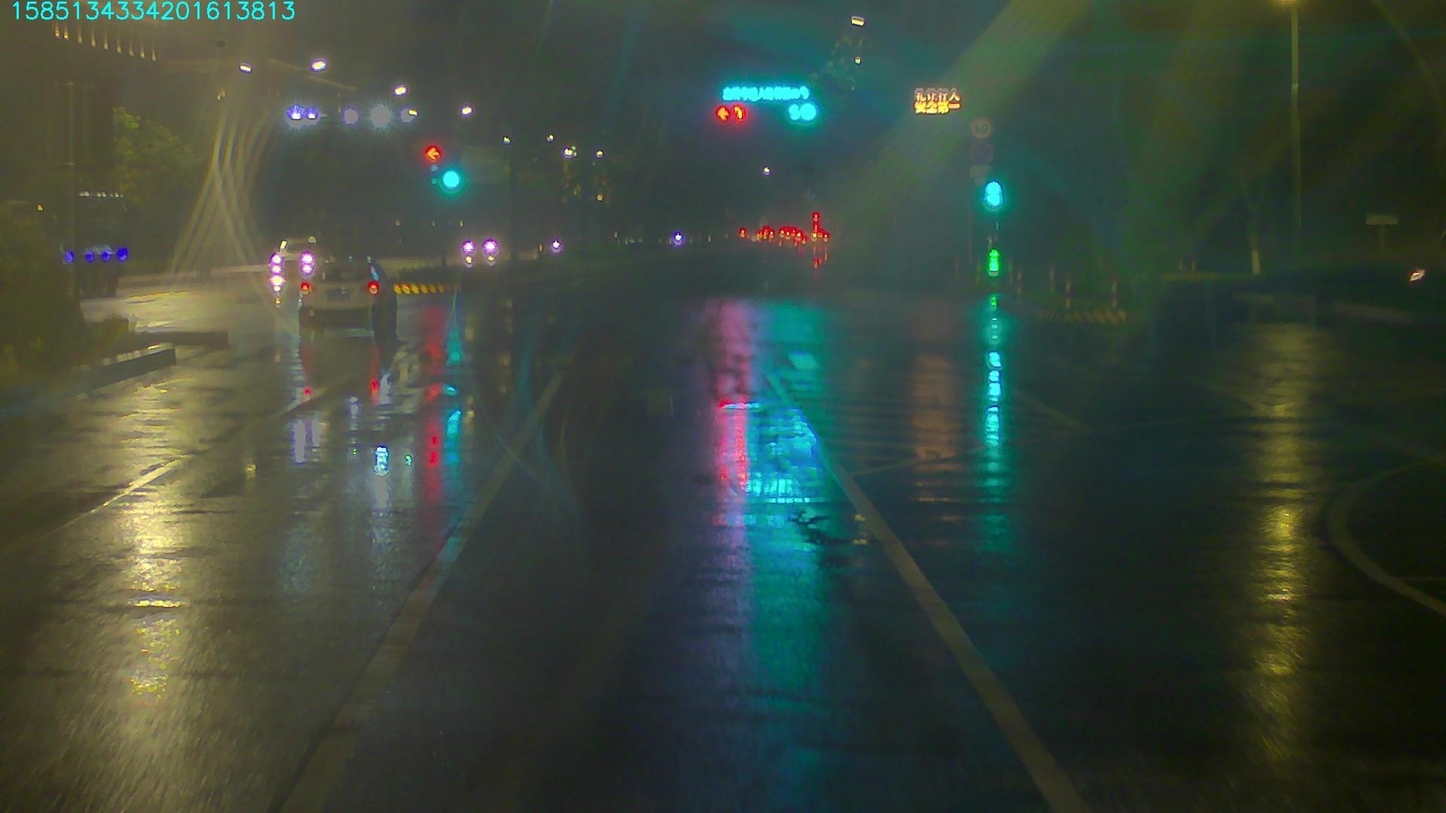green: (787, 105, 822, 124)
red: (715, 104, 747, 118)
wait_on: (715, 83, 816, 102)
